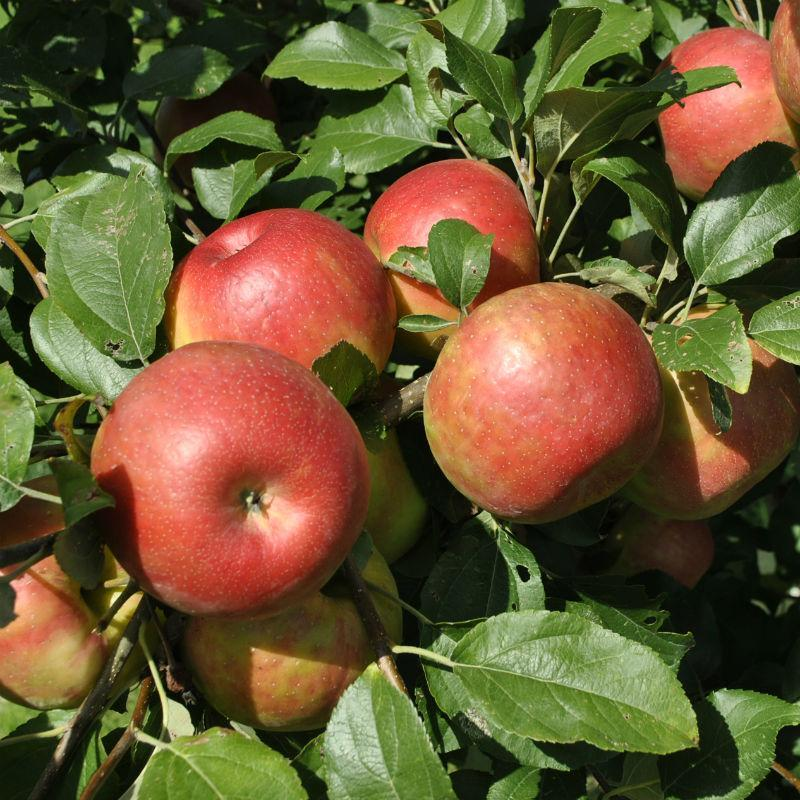apple: (86, 355, 371, 640), (422, 277, 665, 526), (168, 205, 385, 392), (179, 568, 389, 726), (624, 326, 792, 517), (364, 156, 548, 329), (654, 21, 788, 203), (1, 560, 108, 713)
